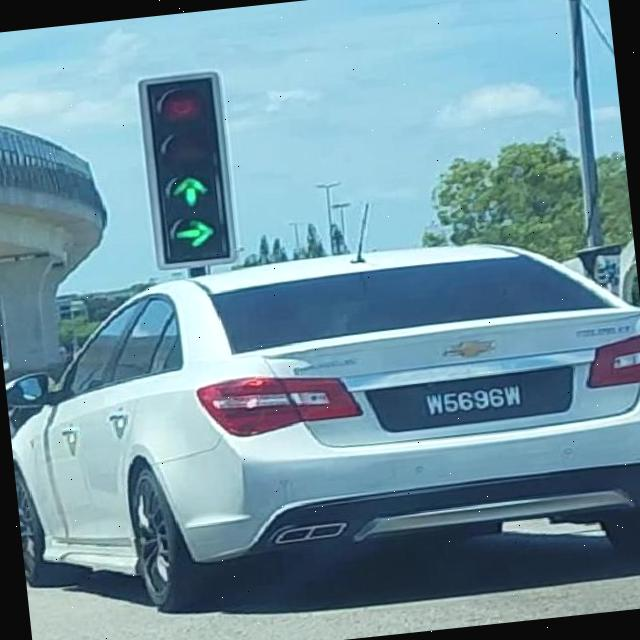green_light: (142, 70, 232, 212), (150, 126, 240, 263)
